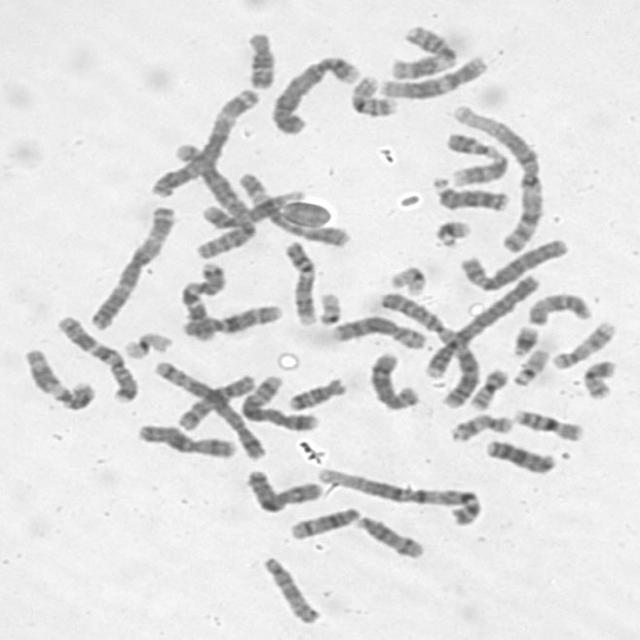A1: (447, 99, 549, 256), (312, 462, 487, 527)
A2: (376, 288, 482, 411), (171, 138, 257, 260)
A3: (143, 83, 262, 199), (85, 200, 180, 332)
B4: (419, 270, 542, 380), (267, 51, 362, 138)
B5: (149, 356, 269, 460), (237, 370, 321, 433)
C10: (174, 370, 259, 433), (178, 300, 284, 340)
C11: (20, 344, 99, 412), (386, 21, 461, 80)
C12: (375, 51, 490, 100), (199, 186, 307, 231)
C6: (234, 167, 352, 249), (454, 235, 569, 292)
C7: (52, 310, 141, 406), (176, 256, 229, 344)
C8: (326, 309, 431, 352), (364, 348, 421, 412)
C9: (442, 128, 512, 188), (278, 237, 320, 327)
D13: (428, 174, 512, 214), (481, 434, 558, 476)
D14: (348, 509, 426, 560), (284, 501, 364, 541)
D15: (256, 552, 322, 626), (522, 287, 595, 327)
E16: (508, 403, 586, 443), (347, 70, 401, 118)
E17: (546, 316, 618, 371), (444, 408, 516, 443)
E18: (284, 373, 349, 412), (240, 26, 278, 91)
F19: (120, 327, 175, 361), (384, 260, 428, 296)
F20: (466, 365, 510, 411), (578, 355, 620, 401)
G21: (429, 216, 474, 249), (506, 321, 542, 358)
G22: (508, 343, 552, 388), (314, 287, 346, 326)
X: (134, 418, 240, 459), (241, 464, 325, 514)
